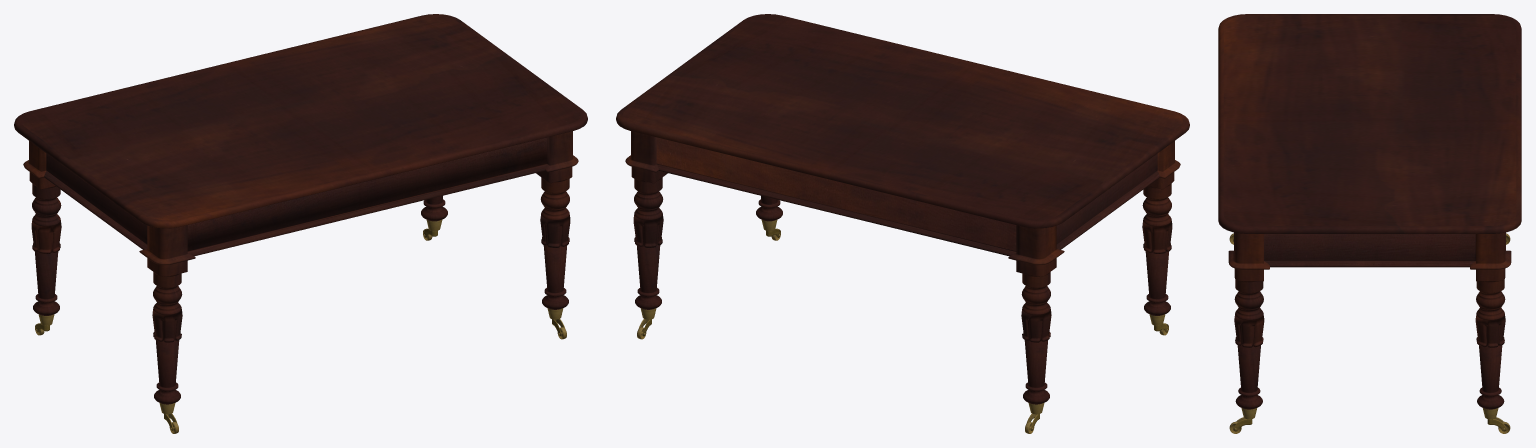
Rendered from table.glb.
3 views of the same model, side by side, from view 1: azimuth 30°, elevation 25°; view 2: azimuth 150°, elevation 25°; view 3: azimuth 270°, elevation 25° (orthographic).
Parts seen in each view (by area): view 1: Table Top, Legs and Rails, Brass Wheels; view 2: Table Top, Legs and Rails, Brass Wheels; view 3: Table Top, Legs and Rails, Brass Wheels.
Boxes of the visible parts, x1,y1,x2,y2 form: Table Top: (14,14,587,228); Legs and Rails: (23,131,578,404); Brass Wheels: (35,219,566,433); Table Top: (616,14,1189,228); Legs and Rails: (625,131,1180,404); Brass Wheels: (637,219,1168,433); Table Top: (1218,14,1521,233); Legs and Rails: (1228,232,1511,409); Brass Wheels: (1229,233,1510,433).
Bounding box in the file's own units: 13.71 × 6.46 × 8.14.
3 materials, 3 textured.
